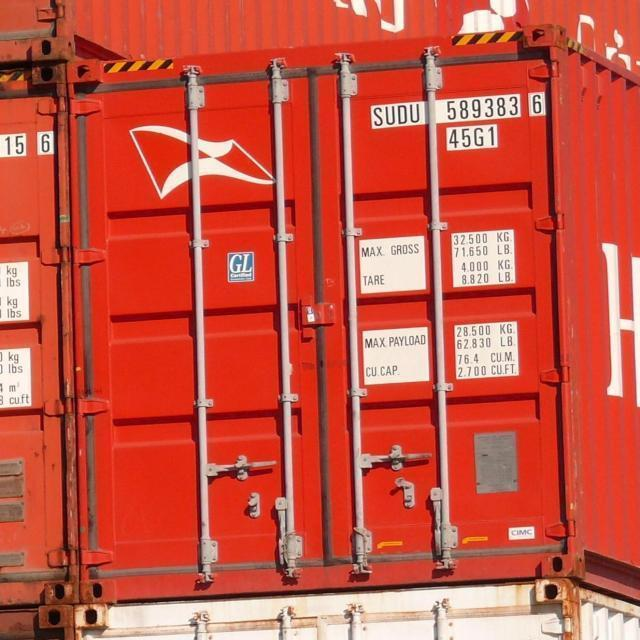ISO: (443, 132, 501, 148)
container_number: (369, 98, 545, 120)
